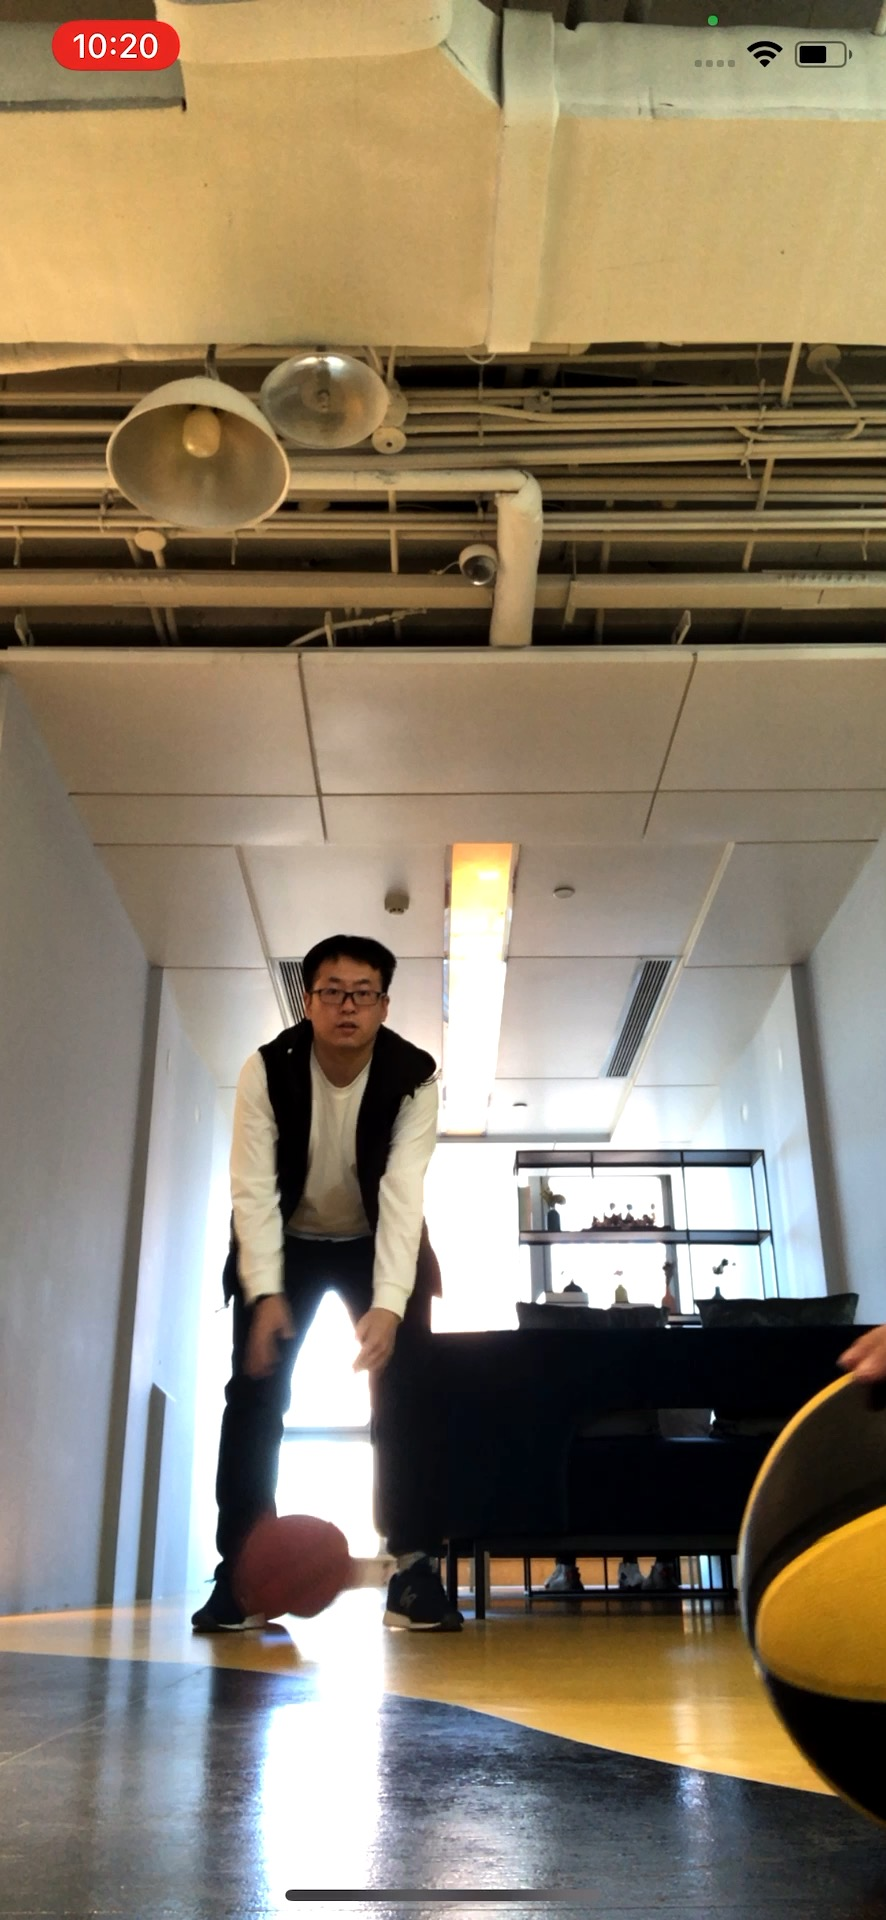ball: (742, 1359, 886, 1836), (239, 1510, 352, 1625)
